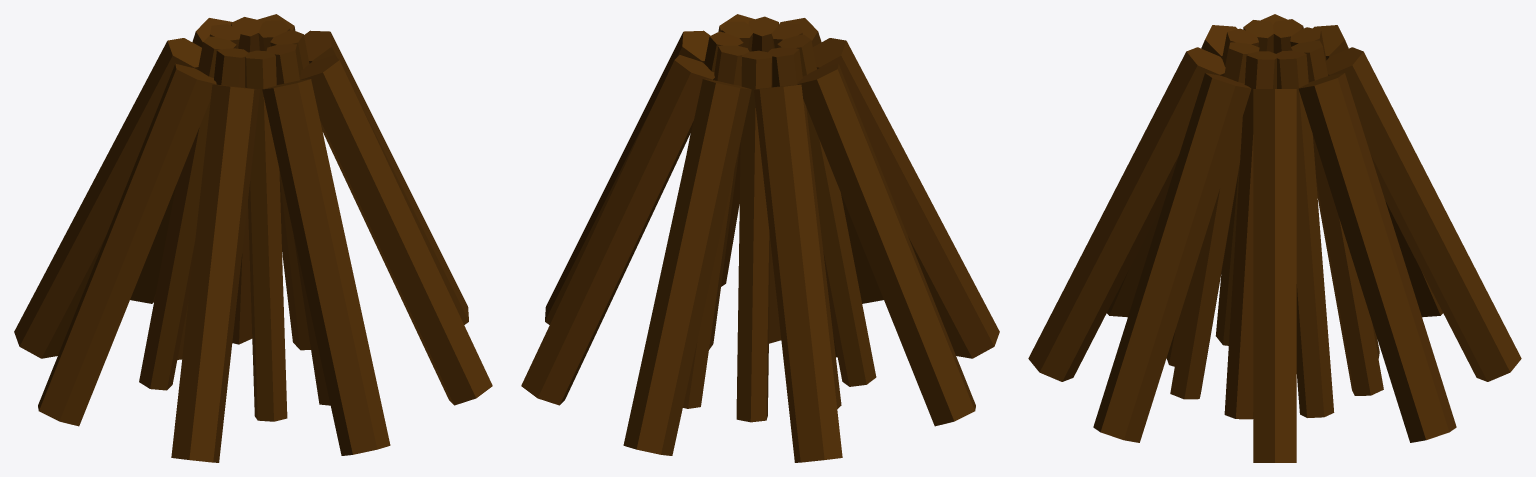
The model's file is wood.fbx.
The picture shows the model from 3 angles, left to right: view 1: azimuth 30°, elevation 25°; view 2: azimuth 150°, elevation 25°; view 3: azimuth 270°, elevation 25°; orthographic projection.
Parts seen in each view (by area): view 1: wood.001; view 2: wood.001; view 3: wood.001.
Boxes of the visible parts, x1,y1,x2,y2 form: wood.001: [14, 14, 492, 462]; wood.001: [521, 14, 999, 462]; wood.001: [1028, 14, 1521, 462].
Bounding box in the file's own units: 39.58 × 30.03 × 39.58.
